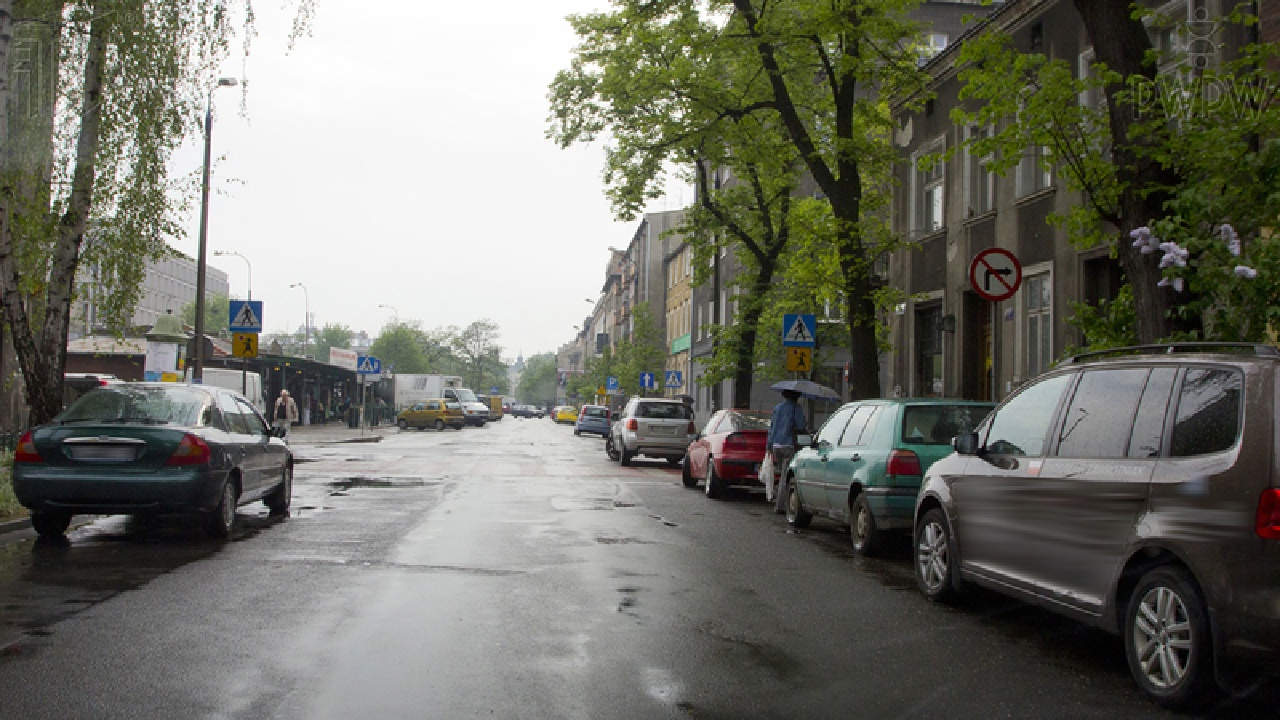B22: (968, 247, 1022, 301)
D6: (784, 314, 816, 346), (230, 300, 261, 331)
